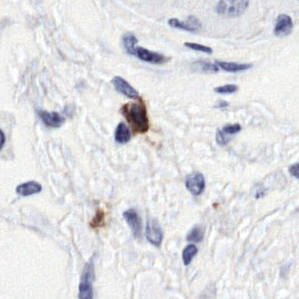Lymphocyte: (119, 99, 154, 132)
